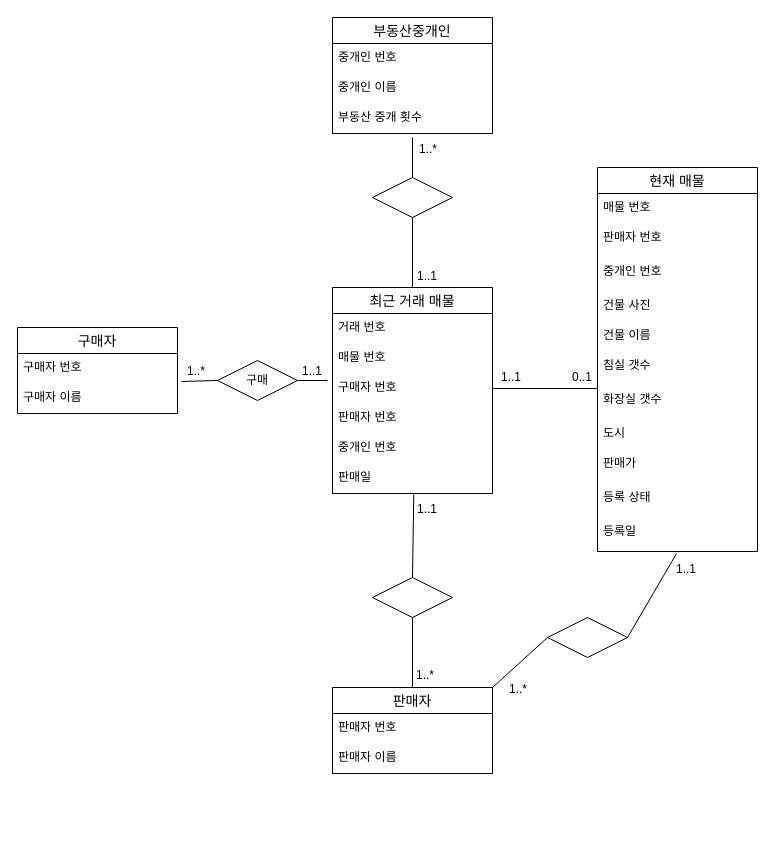
Image size: 775x855. Some labels were removed from this diagram. Here are the shapes that lost their labels. From the top down, the centre of each, then its label:
the point at 412,197: 중개
the point at 412,597: 판매
the point at 587,637: 소유
